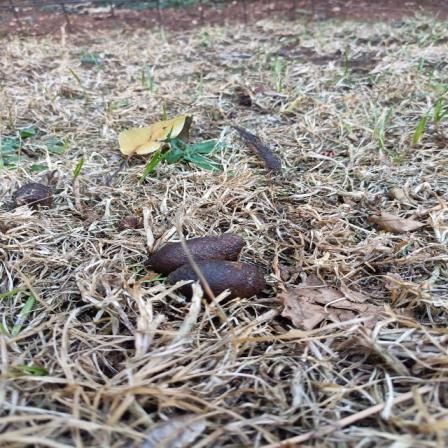dog-poop: (124, 214, 294, 308), (9, 174, 62, 214)
